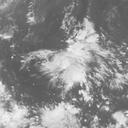cyclone: (38, 35, 91, 88)
